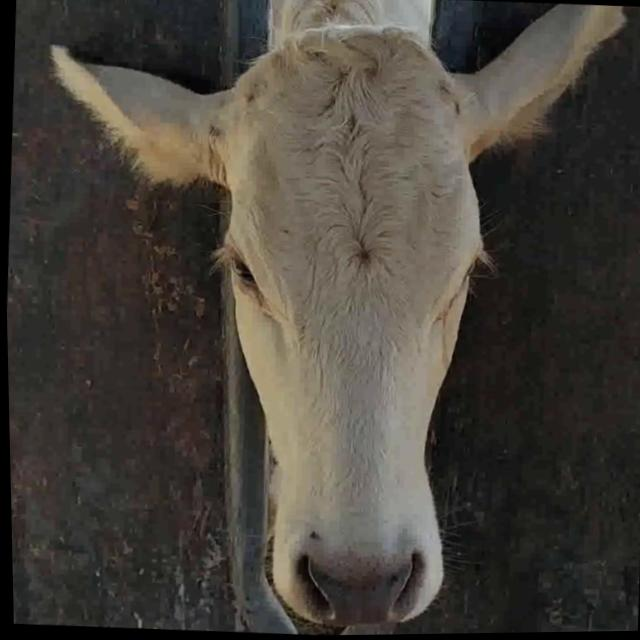cowFace: (198, 17, 501, 631)
